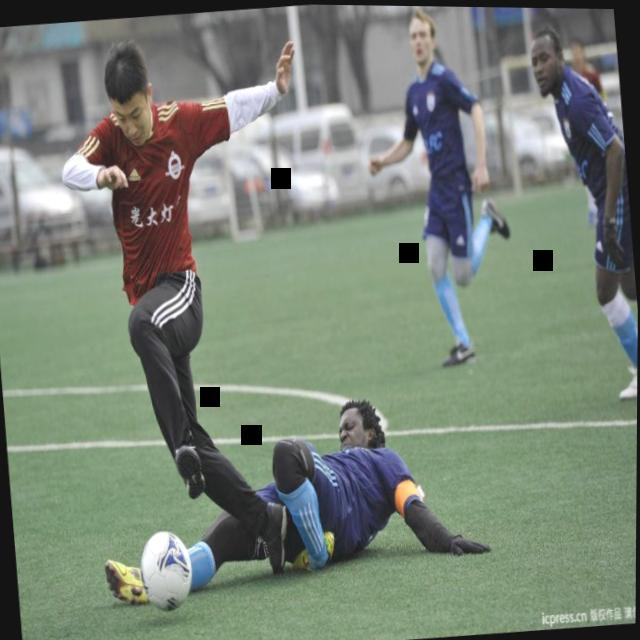Fall-Detected: (92, 372, 497, 607)
